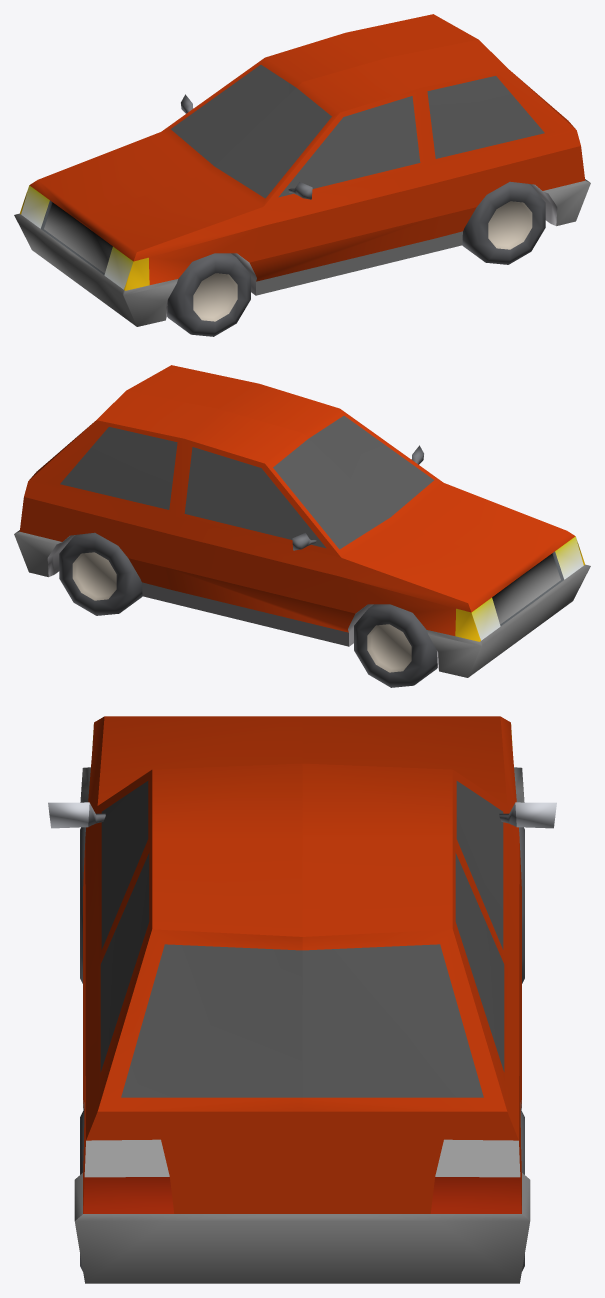
Rendered from low_poly_fiat_uno.glb.
3 views of the same model, one above another, from view 1: azimuth 30°, elevation 25°; view 2: azimuth 150°, elevation 25°; view 3: azimuth 270°, elevation 25° (orthographic). The views are drawn at different scales.
Visible parts, largest first — view 1: Cube; view 2: Cube; view 3: Cube.
Boxes of the visible parts, <box> form: Cube: <box>14,14,590,336</box>; Cube: <box>14,365,590,687</box>; Cube: <box>48,716,556,1283</box>.
Bounding box in the file's own units: 7.17 × 2.71 × 3.4.
